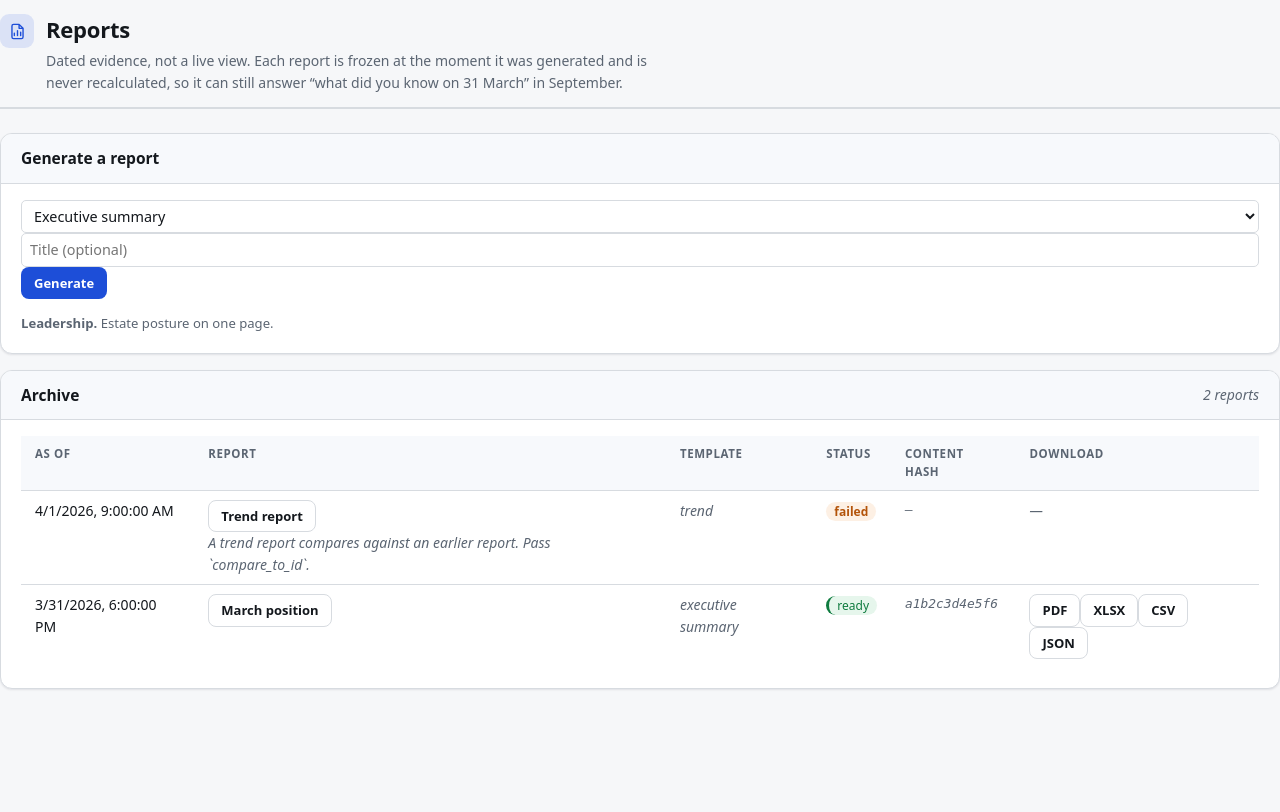
Test: ReportsPage › templates that need a scope ask for it before generating › clears a scope when the template changes
This screenshot has width=1280, height=812.
Select "Device detail" in the dropdown named "Report template". click: coordinates (640, 216)
box: x1=21 y1=200 x2=1259 y2=232
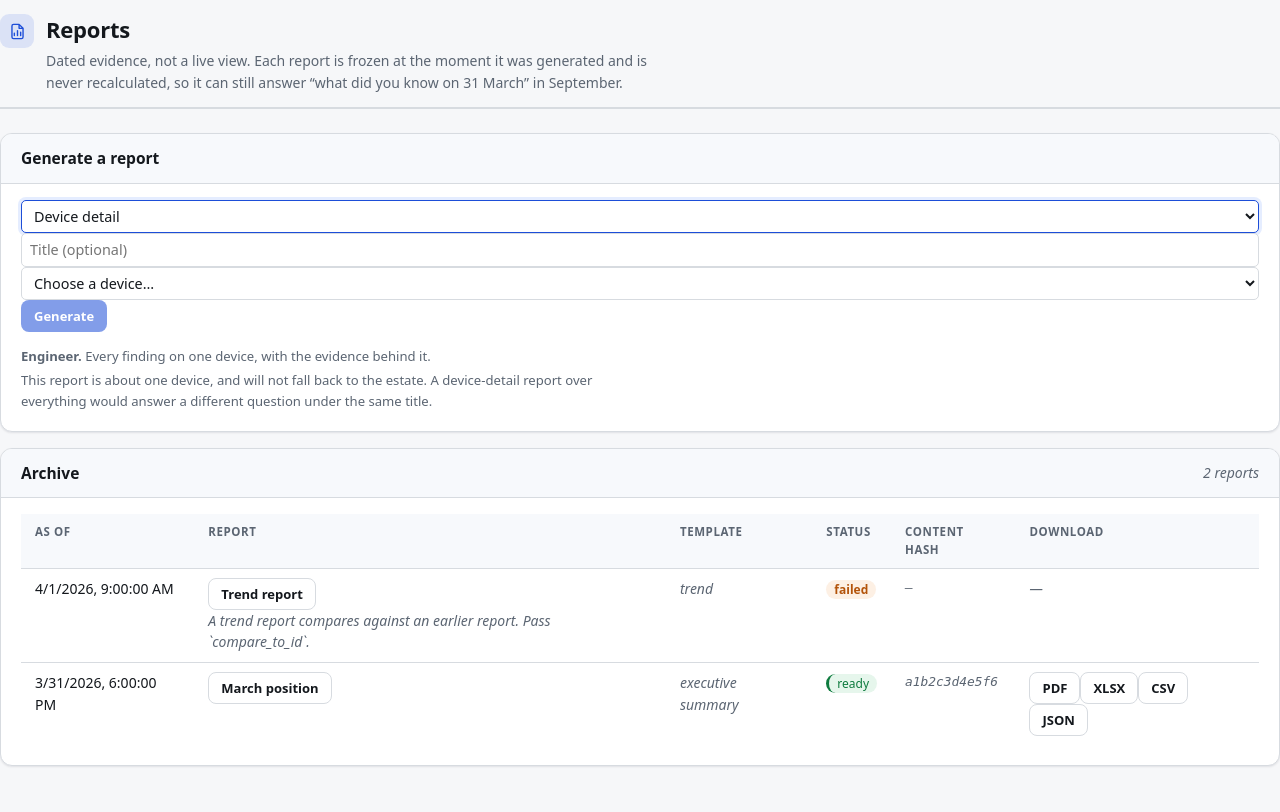
Select "sw-bad" in the dropdown named "Device". click: coordinates (640, 283)
box: x1=21 y1=267 x2=1259 y2=300
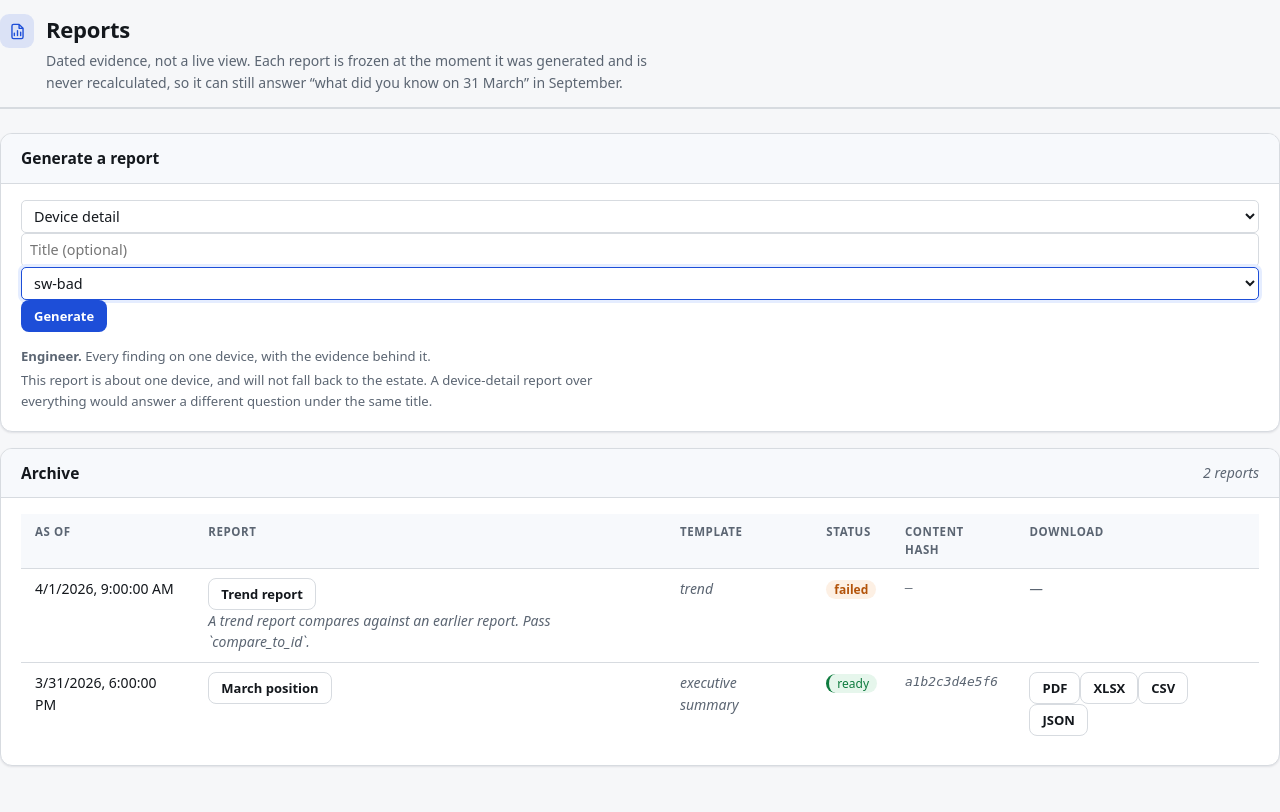
Select "Group compliance" in the dropdown named "Report template". click: coordinates (640, 216)
box: x1=21 y1=200 x2=1259 y2=232
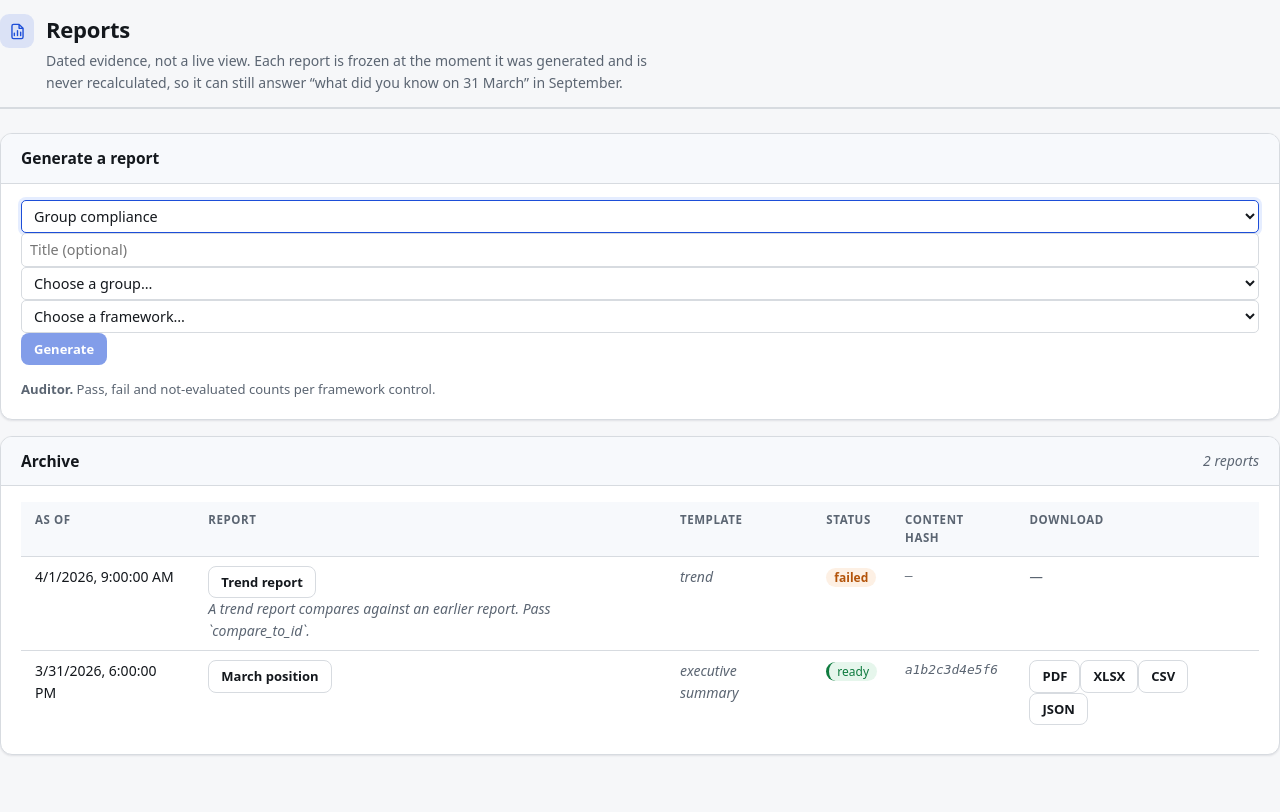
Check: the field labelled "device" is gone
Check: the button "Generate" is disabled, box x1=21 y1=333 x2=107 y2=365
